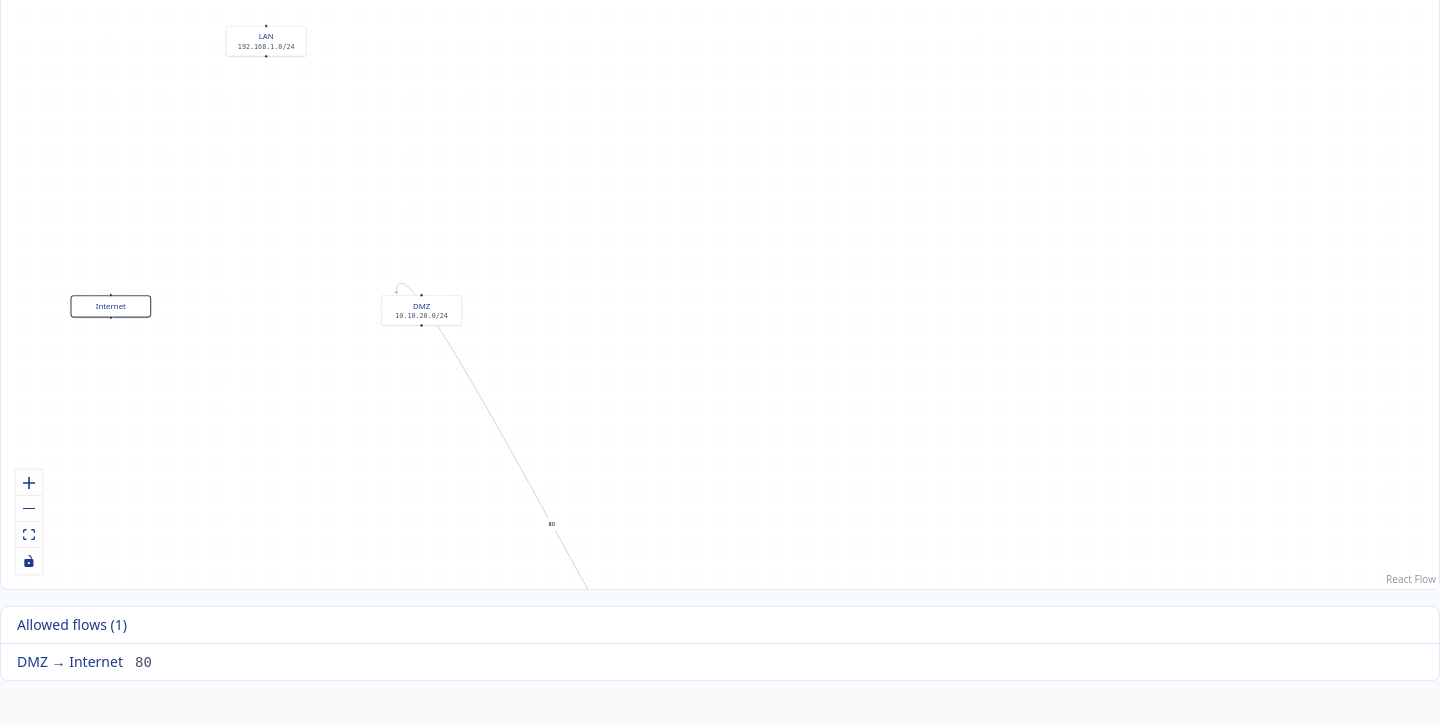
Scenario: AccessMapPage › focusing a zone › focusing a zone with no flows leaves only that zone
Expected: the text "DMZ → Internet" is shown, [17,652,123,672]
Click the text "LAN".
click(266, 36)  # box [259,31,274,42]
(page scrolled)
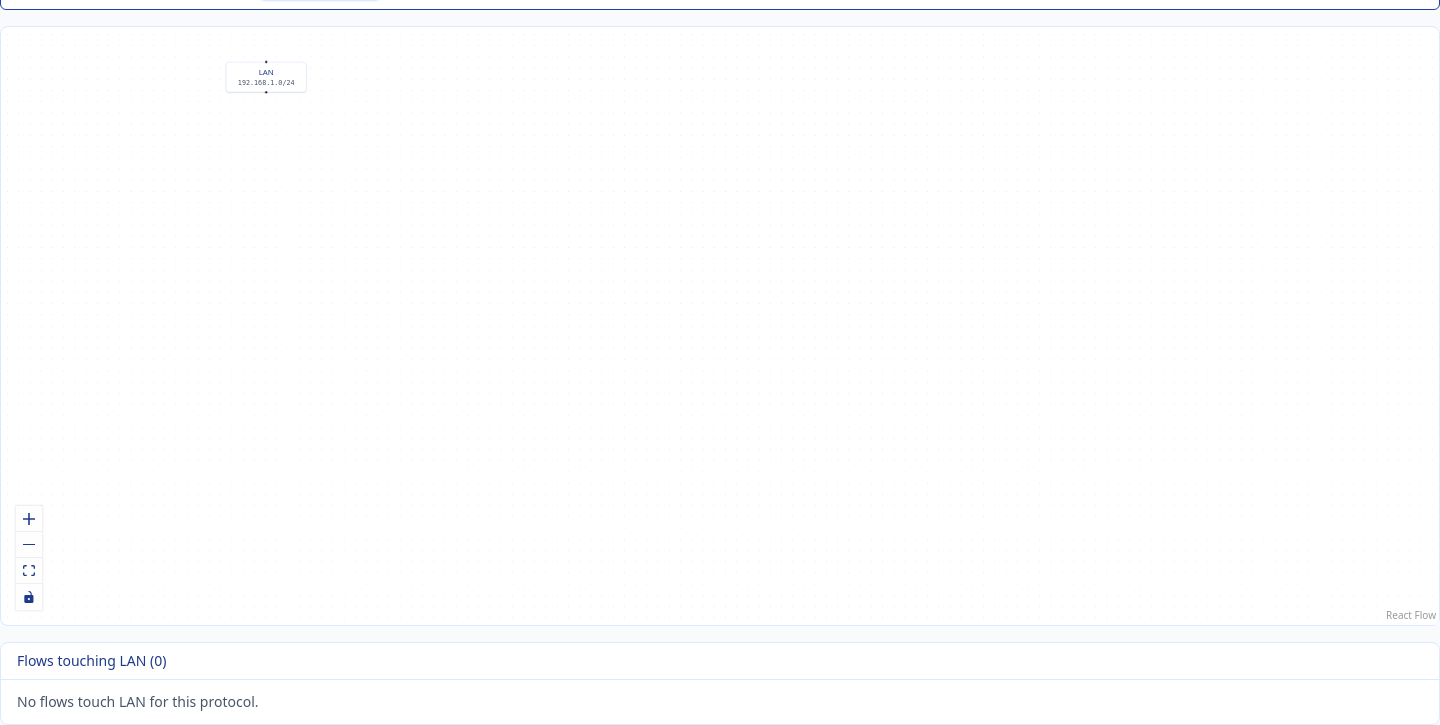
Expected: the 2nd text "LAN" is shown, [259,67,274,78]
Result: the button "DMZ → Internet" is gone
Result: the text "No flows touch LAN for this protocol." is shown at [17,692,258,711]
